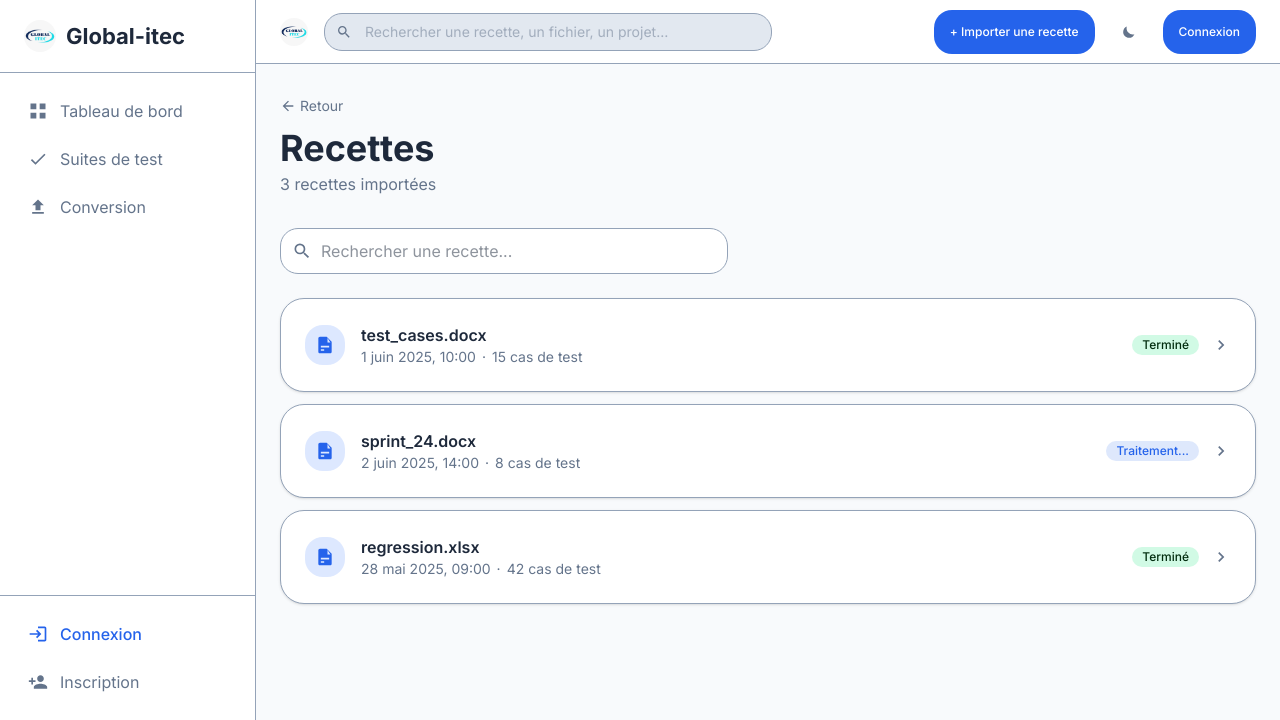
Test: RecipesPage › shows empty search state
expect the text "test_cases.docx" is shown: met, box [361, 325, 486, 345]
Type "zzzzz" into the search field with placeholder "Rechercher une recette...".
click(504, 251); type("zzzzz")  # box [280, 228, 728, 274]
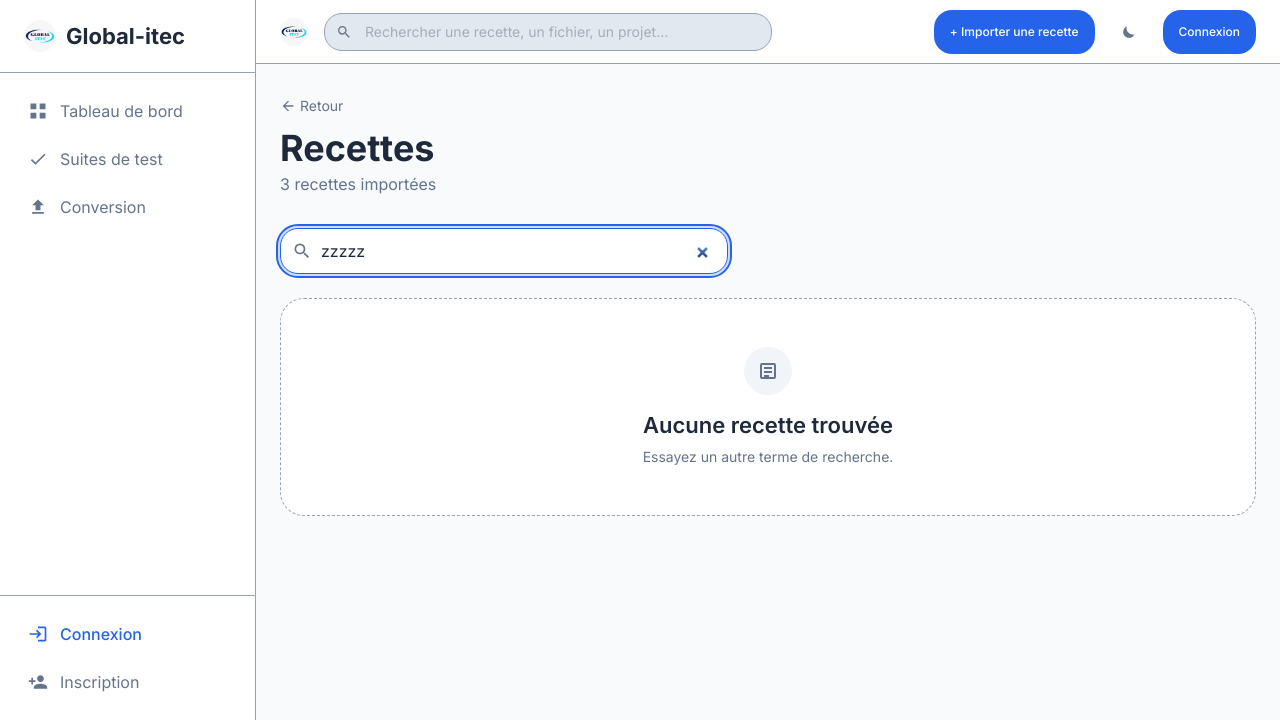
expect the heading "Aucune recette trouvée" is shown: met, box [643, 411, 893, 439]
